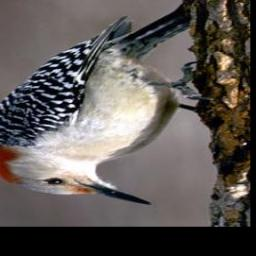Woodpecker: (0, 15, 211, 206)
